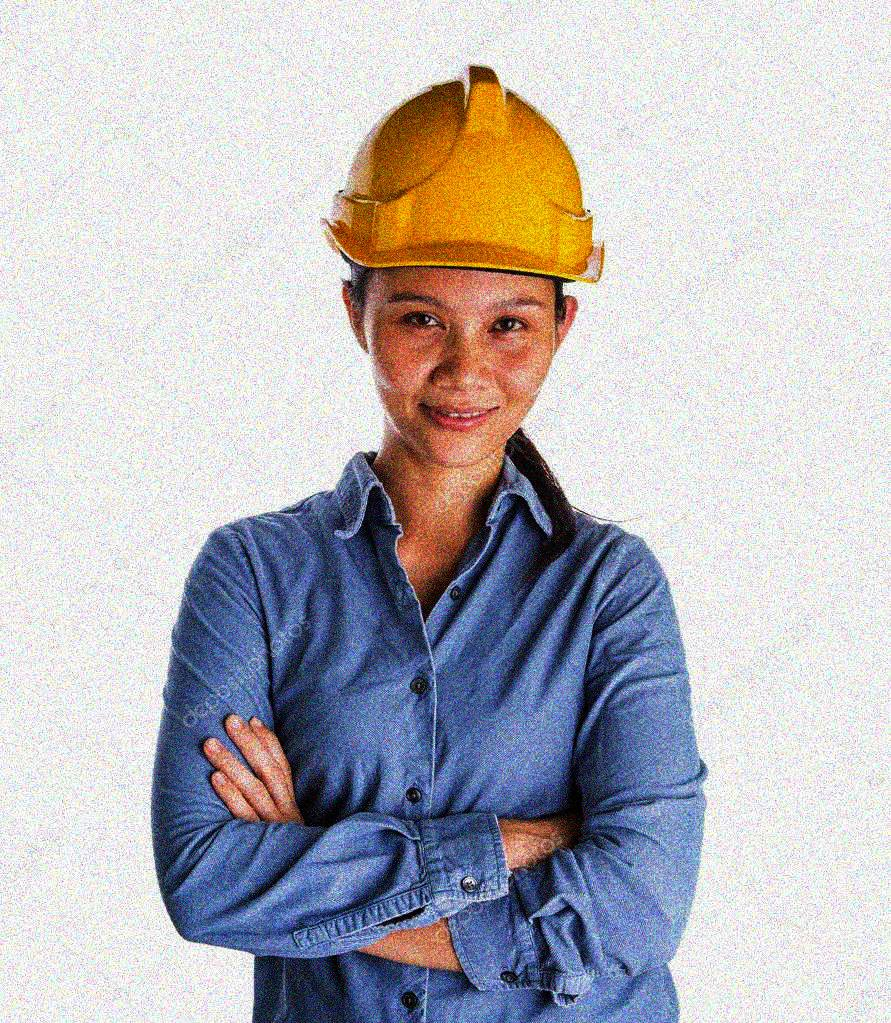helmet: (326, 67, 603, 467)
